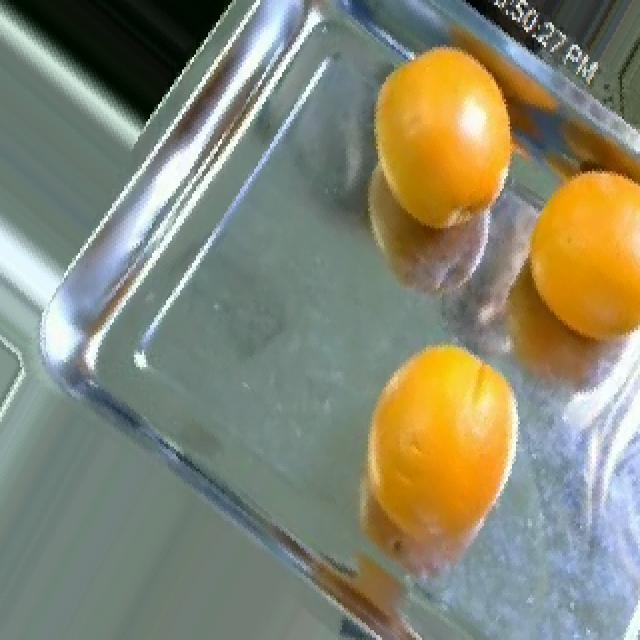Fruit: (342, 126, 528, 325)
